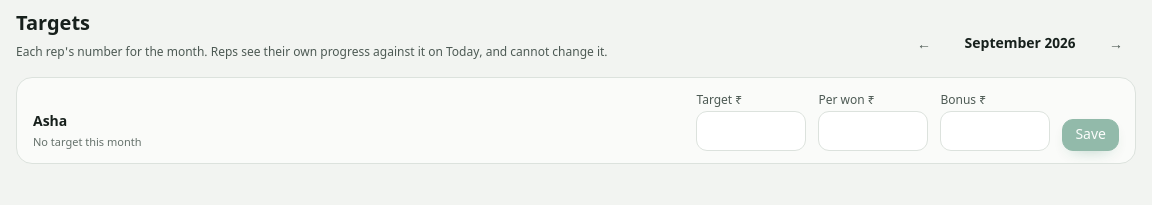
Test case: TargetsPage — what it will send › shows the database's refusal rather than claiming it saved
Type "400000" into the field named "Monthly target for Asha" at (751, 131), box [696, 111, 806, 151]
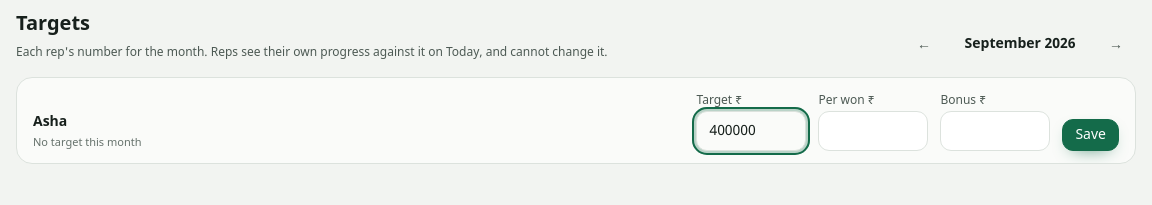
Click the button "Save" at (1091, 135), box [1062, 119, 1119, 151]
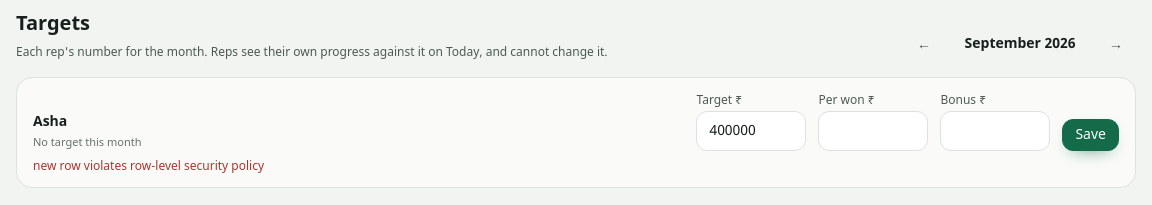
expect the message shows "row-level security": met, box [33, 159, 264, 175]
